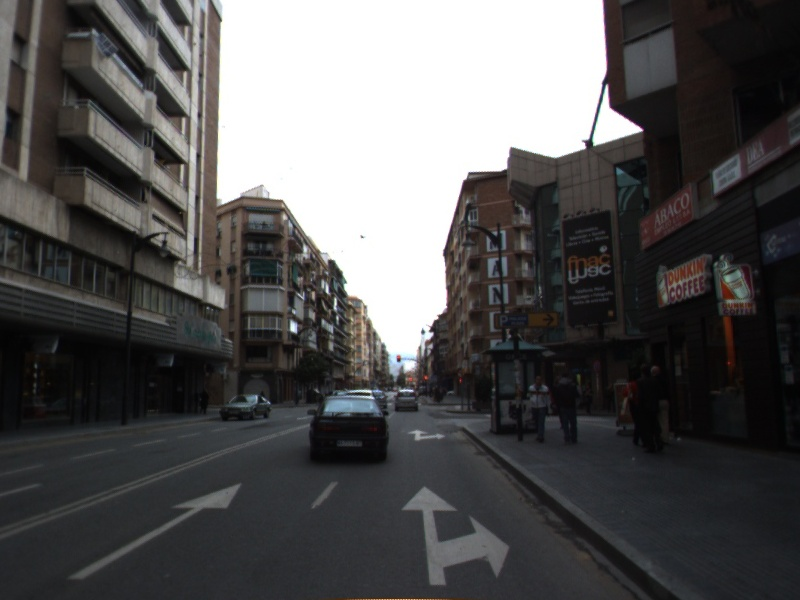STRAIGHT: (64, 481, 244, 582)
STRAIGHT_RIGHT: (399, 484, 511, 587), (405, 428, 448, 443)
